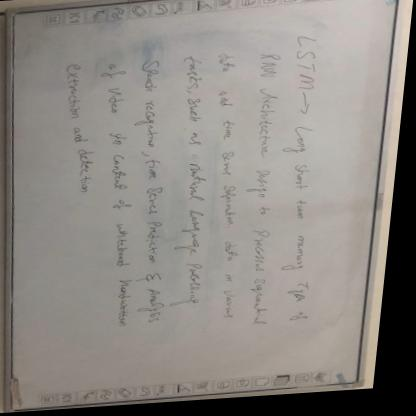Handwritten text: (283, 36, 333, 338), (92, 57, 143, 336), (132, 52, 181, 333), (249, 55, 288, 332), (213, 51, 249, 329), (180, 51, 213, 315), (53, 53, 102, 200)
Whiteboard: (9, 0, 410, 413)
